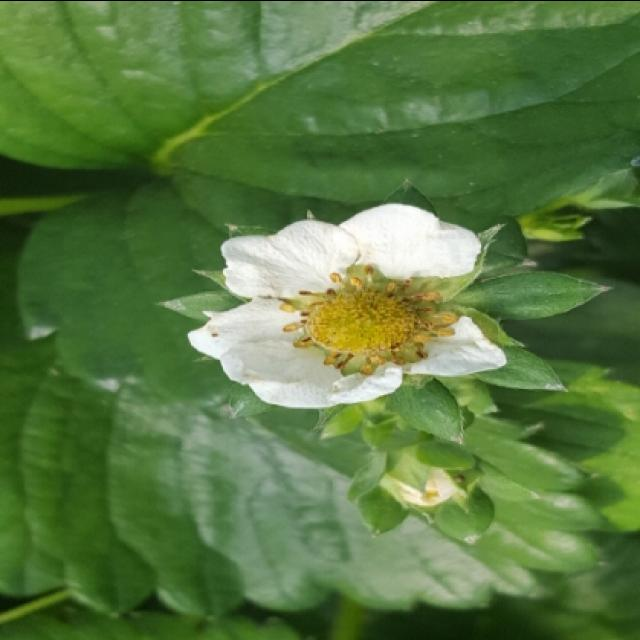Blossom Blight: (276, 259, 463, 378)
